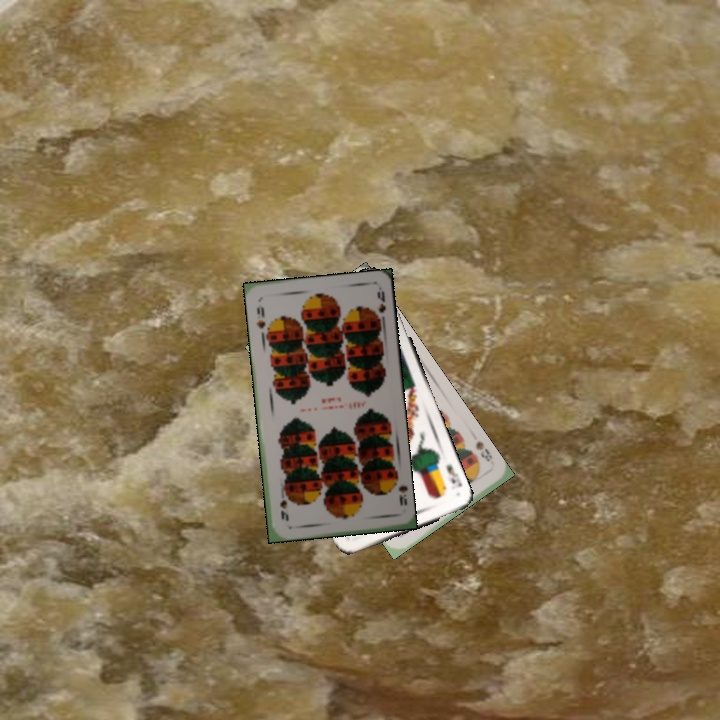EK: (442, 460, 464, 492)
S8: (471, 437, 495, 464)
S9: (388, 473, 410, 509), (252, 301, 268, 331)
